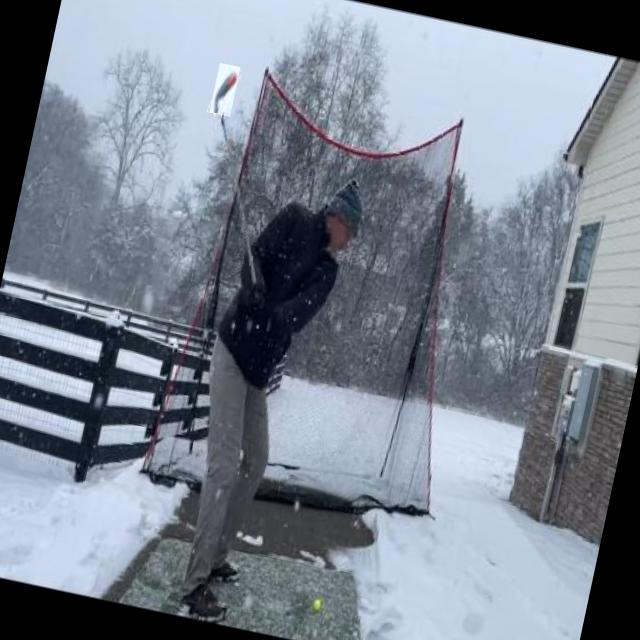club head: (208, 63, 240, 118)
